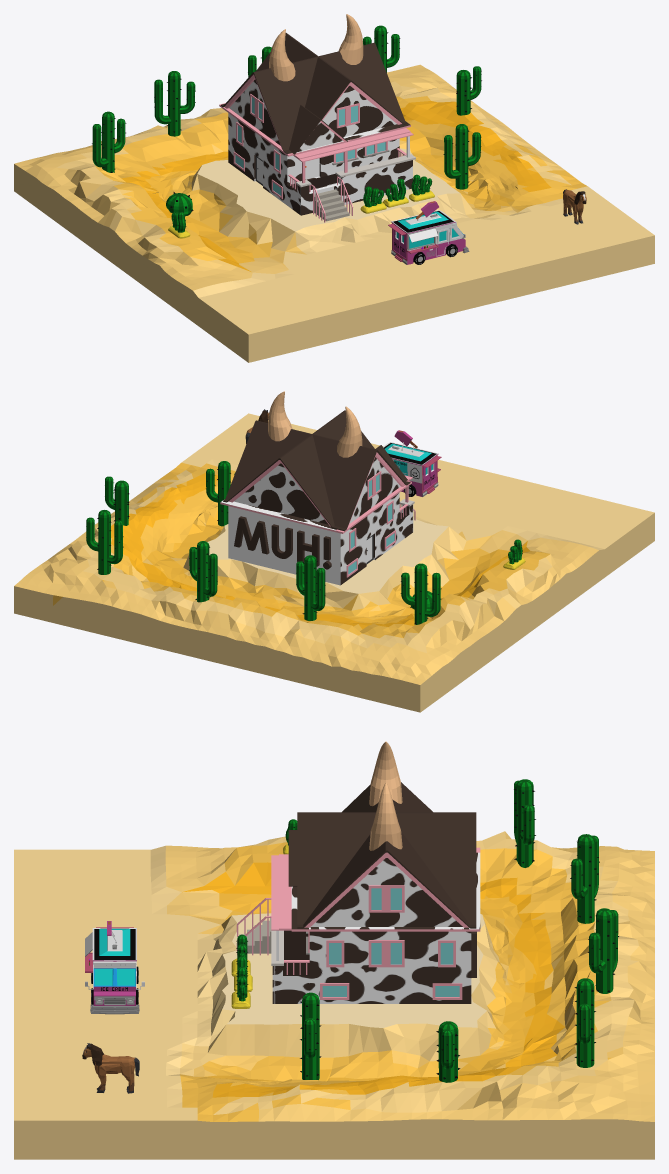
The picture shows the model from 3 angles, top to bottom: view 1: azimuth 30°, elevation 25°; view 2: azimuth 150°, elevation 25°; view 3: azimuth 270°, elevation 25°; orthographic projection. The views are drawn at different scales.
Visible parts, largest first — view 1: Cube.001, Cube.1242, VEHICLES_ICE_CREAM_TRUCK, Cylinder.037, Cylinder.044, Cylinder.045, Cylinder.038, Cylinder.042, ANIMAL_CABALLO, Cylinder.041, Cylinder.039; view 2: Cube.001, Cube.1242, VEHICLES_ICE_CREAM_TRUCK, Cylinder.045, Cylinder.042, Cylinder.044, Cylinder.043, Cylinder.037, Cylinder.038; view 3: Cube.001, Cube.1242, VEHICLES_ICE_CREAM_TRUCK, Cylinder.044, Cylinder.043, Cylinder.045, Cylinder.042, Cylinder.037, ANIMAL_CABALLO, Cylinder.038, Cylinder.041.
Boxes of the visible parts, x1,y1,x2,y2 form: Cube.001: [14, 64, 654, 362]; Cube.1242: [219, 14, 415, 222]; VEHICLES_ICE_CREAM_TRUCK: [388, 201, 469, 264]; Cylinder.037: [443, 124, 481, 189]; Cylinder.044: [154, 71, 195, 136]; Cylinder.045: [92, 111, 126, 172]; Cylinder.038: [456, 66, 481, 115]; Cylinder.042: [363, 25, 400, 72]; ANIMAL_CABALLO: [563, 189, 586, 224]; Cylinder.041: [409, 174, 434, 201]; Cylinder.039: [360, 186, 386, 213]; Cube.001: [14, 413, 654, 712]; Cube.1242: [220, 391, 415, 585]; VEHICLES_ICE_CREAM_TRUCK: [383, 430, 441, 496]; Cylinder.045: [400, 563, 441, 624]; Cylinder.042: [86, 510, 123, 574]; Cylinder.044: [296, 555, 325, 620]; Cylinder.043: [189, 541, 217, 602]; Cylinder.037: [206, 461, 235, 526]; Cylinder.038: [105, 476, 129, 525]; Cube.001: [14, 831, 654, 1159]; Cube.1242: [236, 741, 480, 1003]; VEHICLES_ICE_CREAM_TRUCK: [85, 921, 144, 1014]; Cylinder.044: [570, 834, 599, 923]; Cylinder.043: [588, 908, 618, 993]; Cylinder.045: [514, 779, 535, 867]; Cylinder.042: [574, 978, 595, 1067]; Cylinder.037: [300, 992, 321, 1079]; ANIMAL_CABALLO: [82, 1043, 139, 1093]; Cylinder.038: [436, 1021, 460, 1082]; Cylinder.041: [231, 966, 250, 1008].
Bounding box in the file's own units: 4002 × 1909 × 4001.
Materials: 41 (3 with a texture image).
